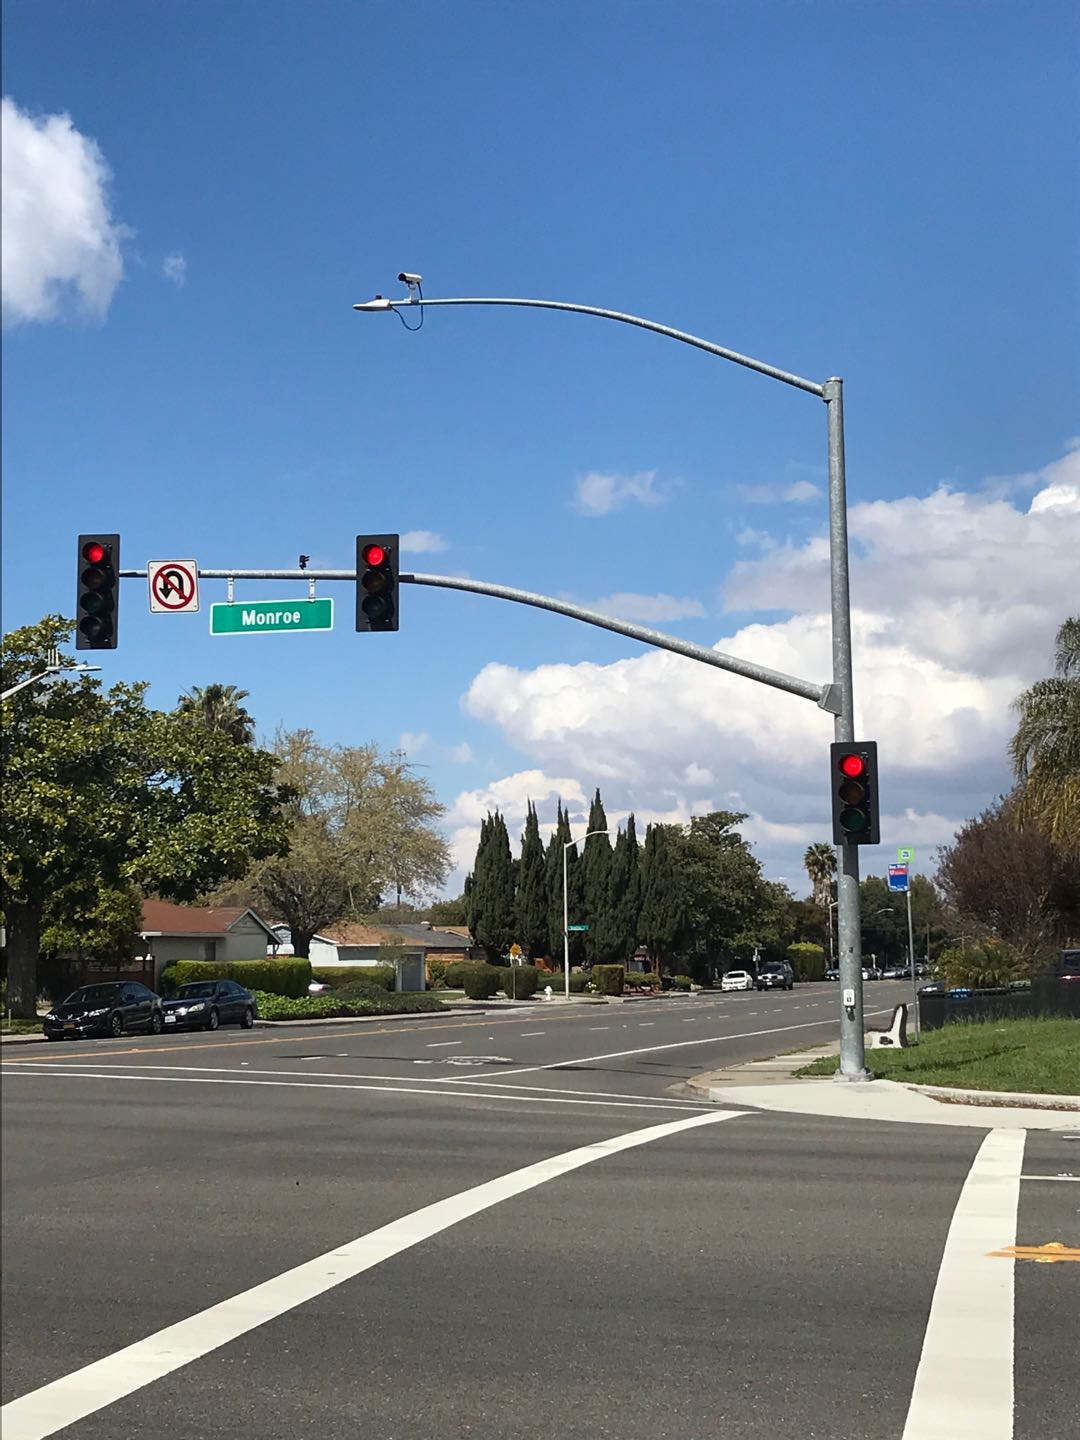red_light: (829, 744, 876, 846), (78, 536, 117, 646), (357, 535, 398, 632)
